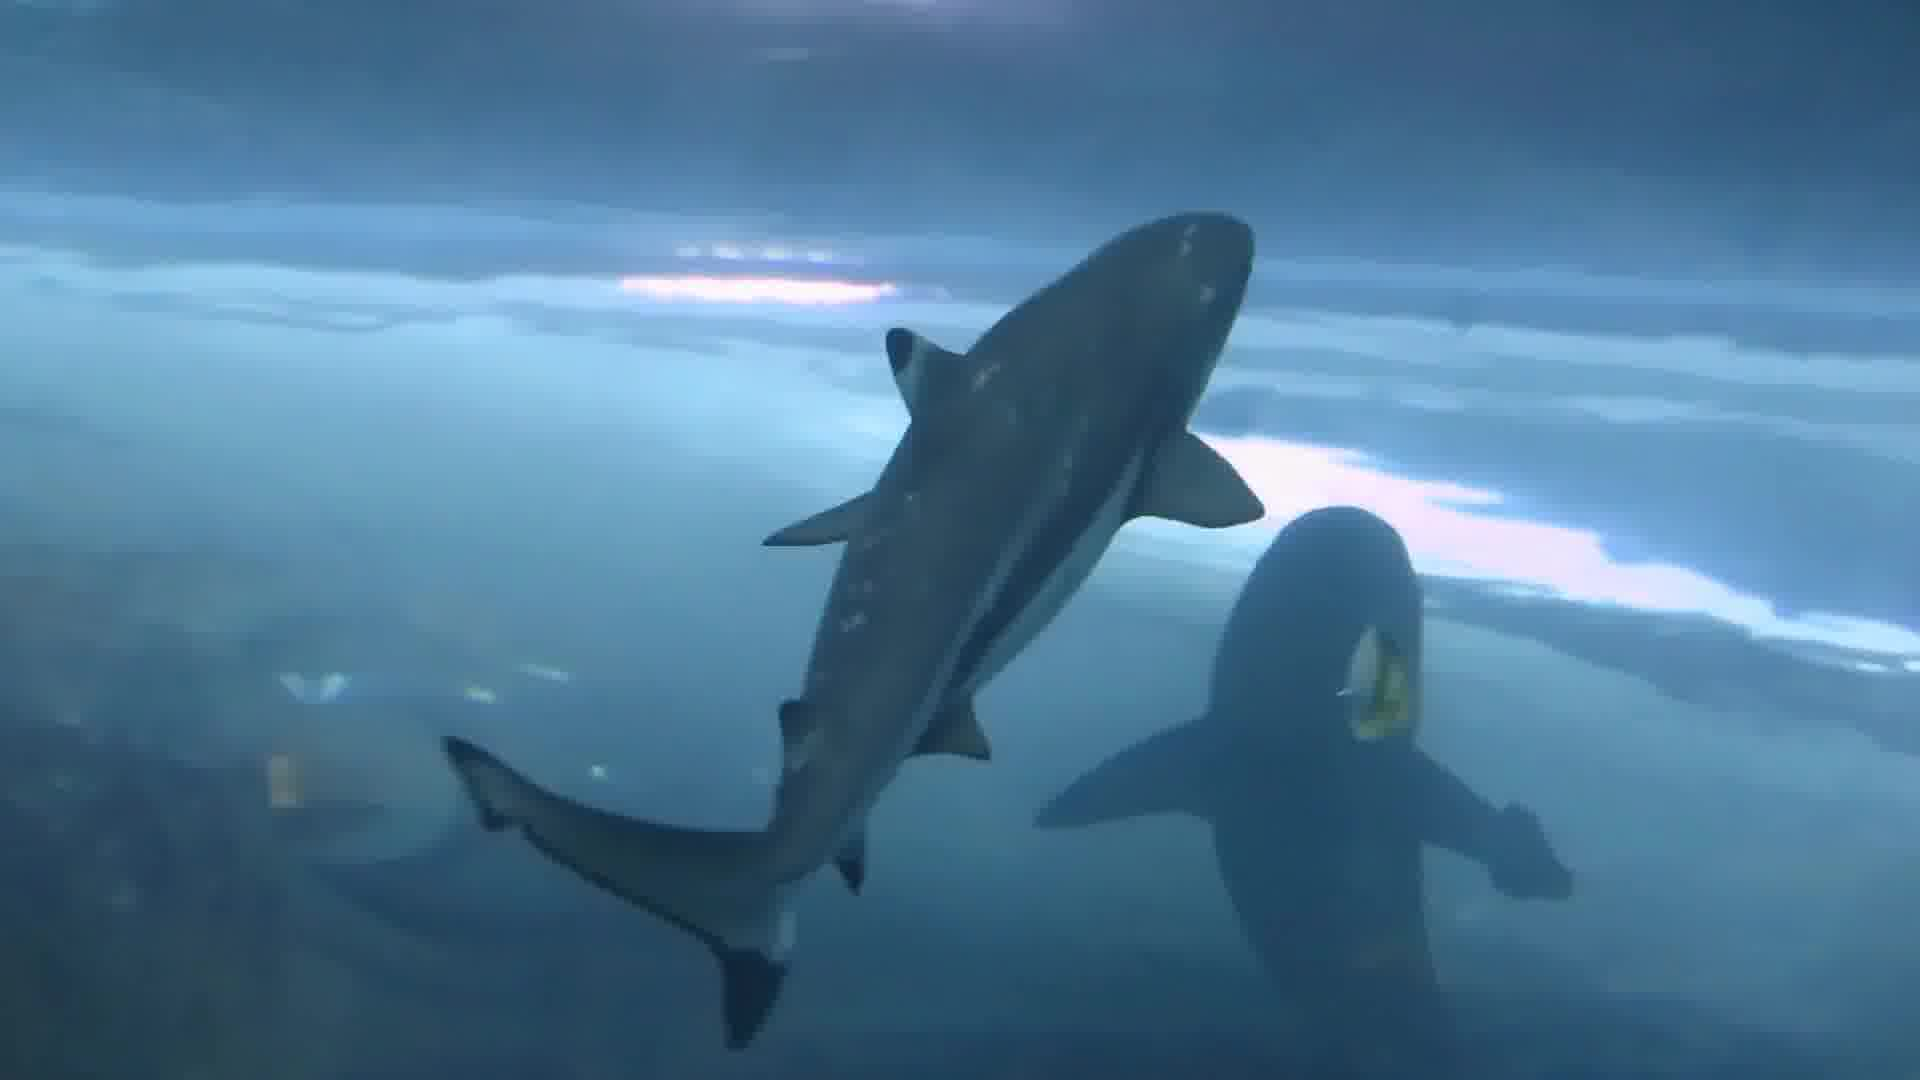Carcharhinus melanopterus: (328, 222, 1474, 1007)
